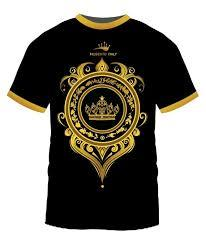tshirt: (5, 11, 201, 233)
